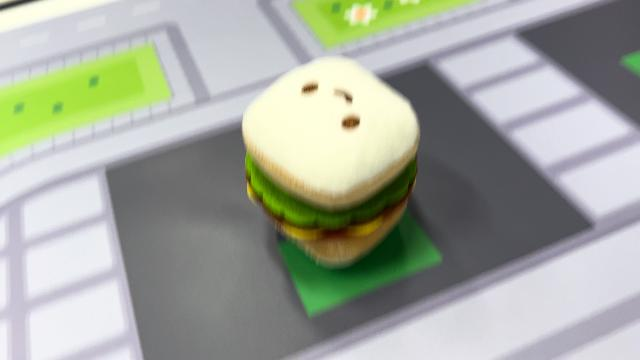sandwich: (238, 53, 424, 270)
